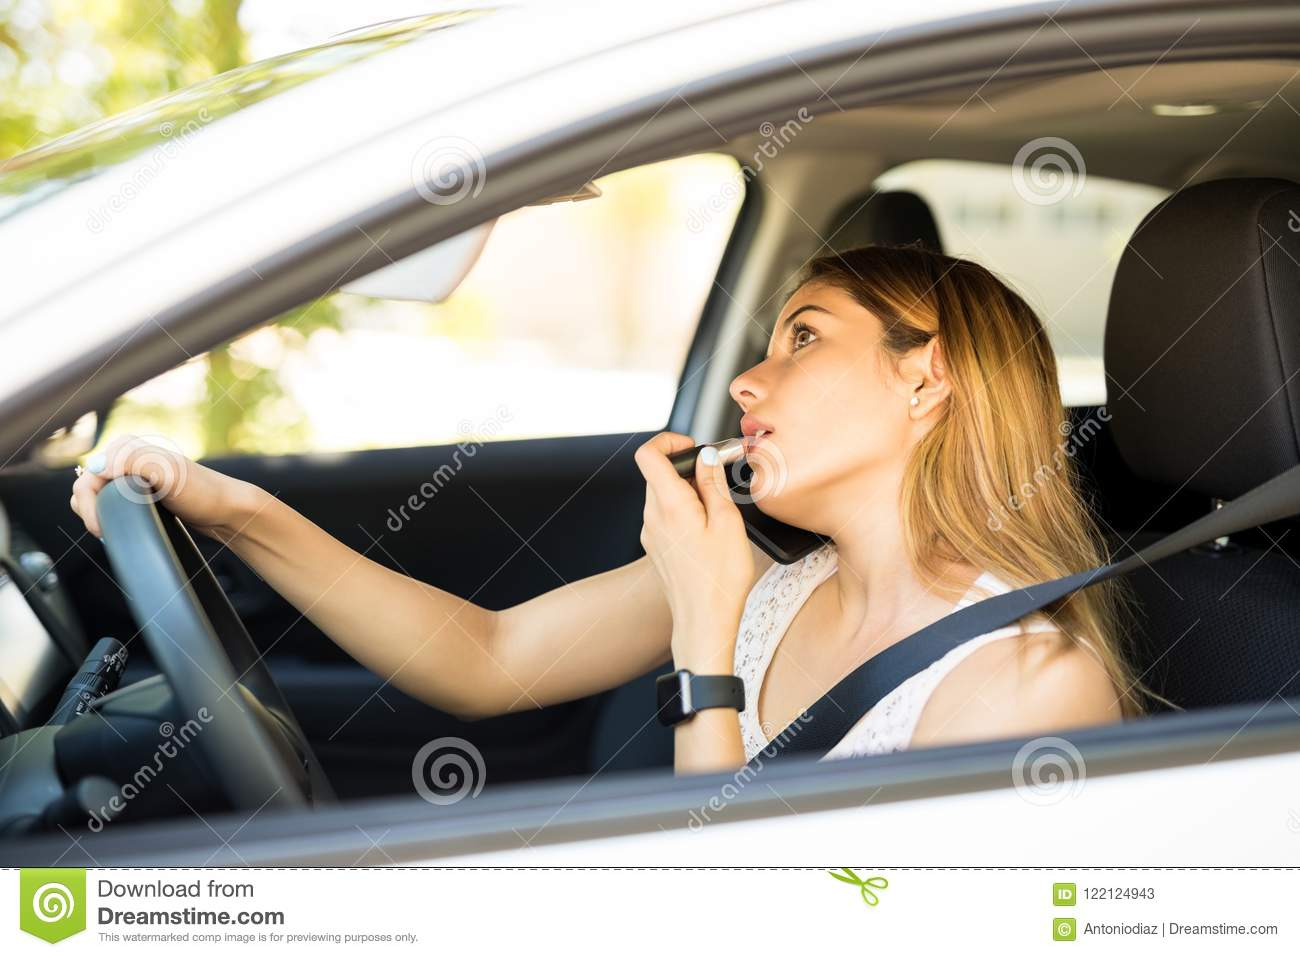talk: (636, 294, 855, 631)
